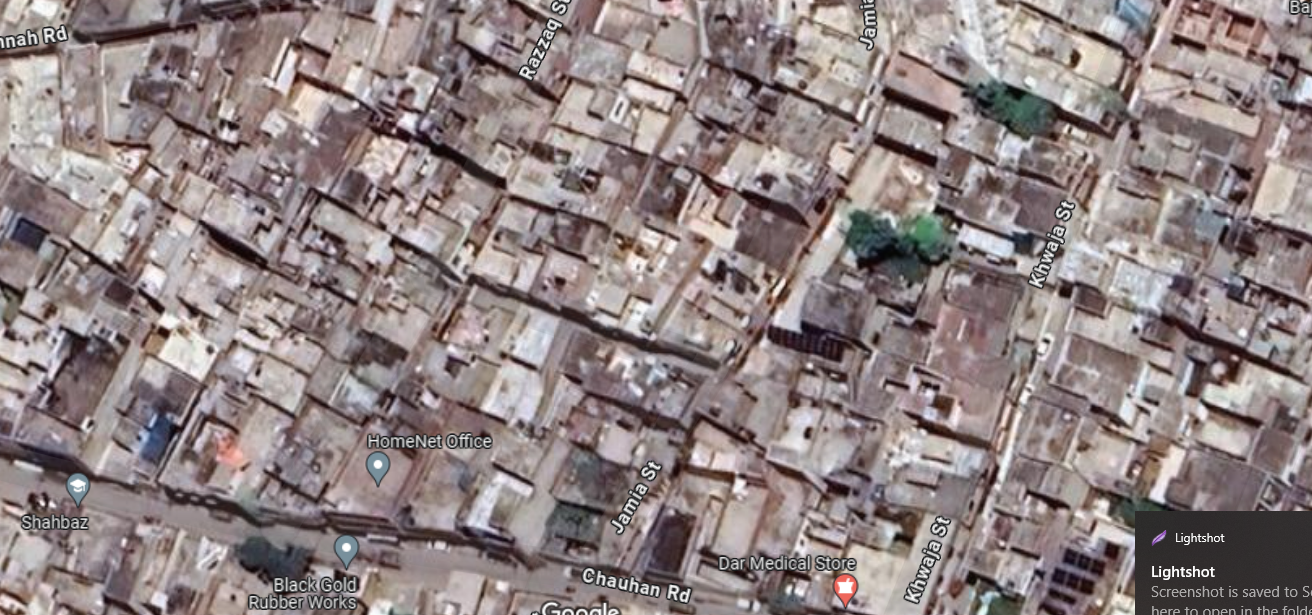solar-panel: (1053, 530, 1118, 615), (766, 321, 850, 361)
